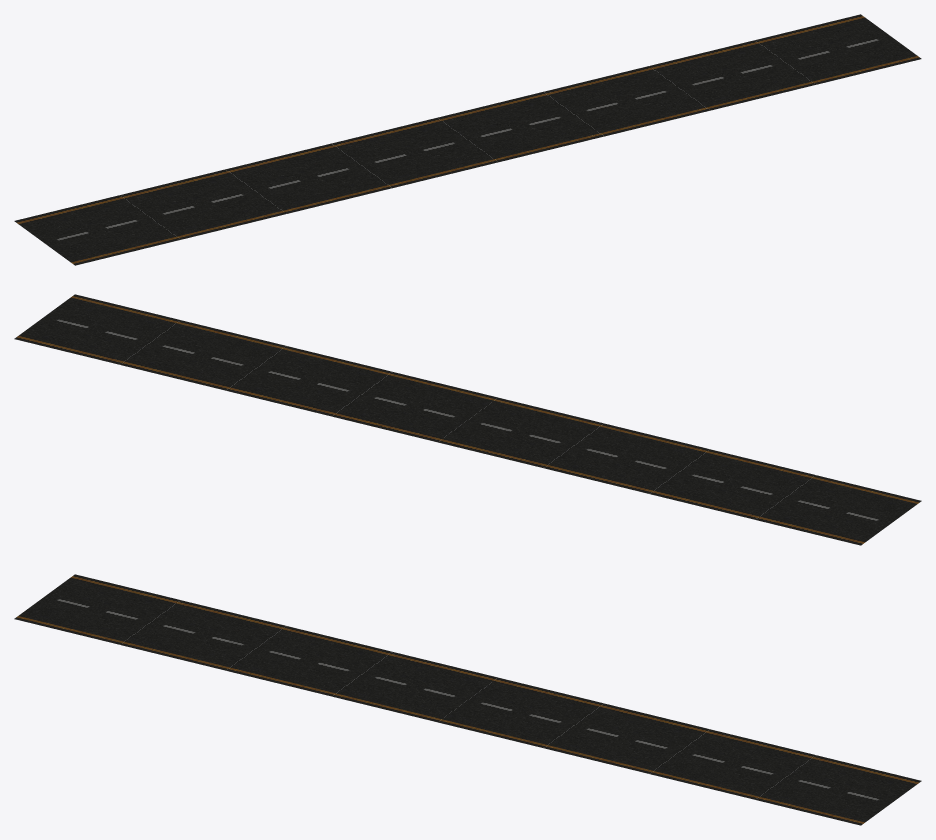
The model's file is road1.fbx.
3 views of the same model, one above another, from view 1: azimuth 30°, elevation 25°; view 2: azimuth 150°, elevation 25°; view 3: azimuth 330°, elevation 25° (orthographic).
Visible parts, largest first — view 1: Plane; view 2: Plane; view 3: Plane.
Boxes of the visible parts, bbox=[...] form: Plane: bbox=[14, 14, 921, 265]; Plane: bbox=[14, 294, 921, 545]; Plane: bbox=[14, 574, 921, 825].
Bounding box in the file's own units: 1601 × 3.26e-05 × 200.
